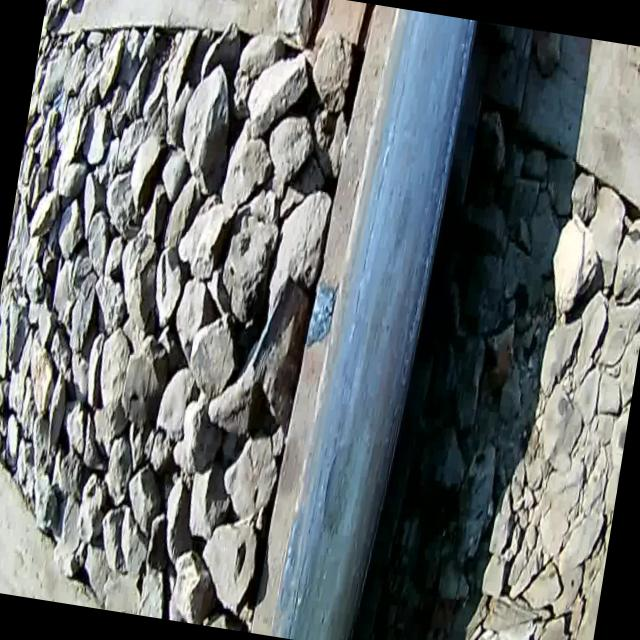Squats: (259, 2, 490, 640)
